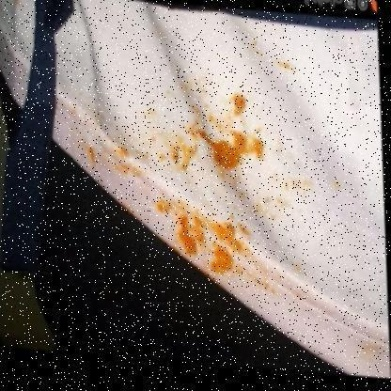kimchi: (195, 129, 262, 183), (173, 75, 216, 125), (276, 176, 344, 199), (151, 130, 189, 170), (148, 195, 191, 221), (211, 242, 241, 276), (178, 213, 203, 251), (211, 217, 242, 245), (226, 92, 254, 119), (256, 198, 288, 213), (116, 160, 135, 175), (86, 143, 98, 166), (274, 55, 293, 68), (115, 143, 128, 154), (148, 109, 160, 117)
